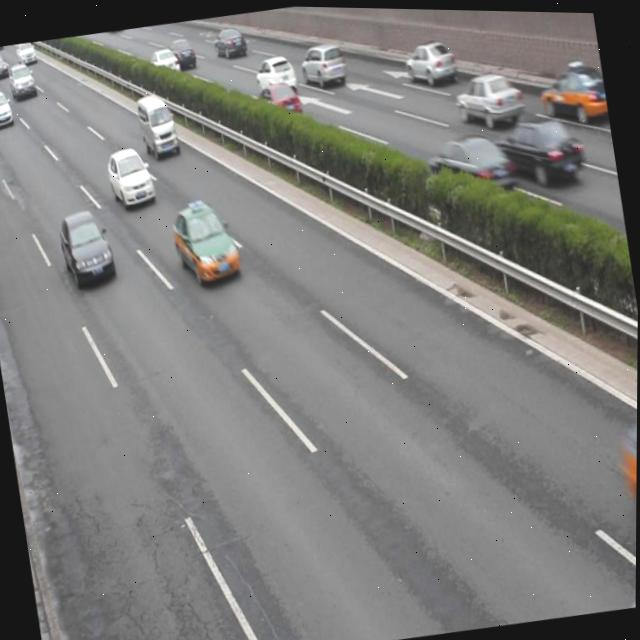car: (490, 103, 586, 191), (168, 194, 242, 288), (423, 125, 514, 201), (534, 51, 610, 130), (58, 204, 118, 292), (450, 64, 526, 131), (105, 142, 157, 210), (401, 36, 458, 89), (250, 78, 305, 131), (297, 38, 348, 91), (620, 407, 638, 555), (252, 51, 297, 97), (212, 22, 249, 63), (148, 46, 183, 86), (167, 33, 198, 72)
truck: (135, 87, 181, 162)
